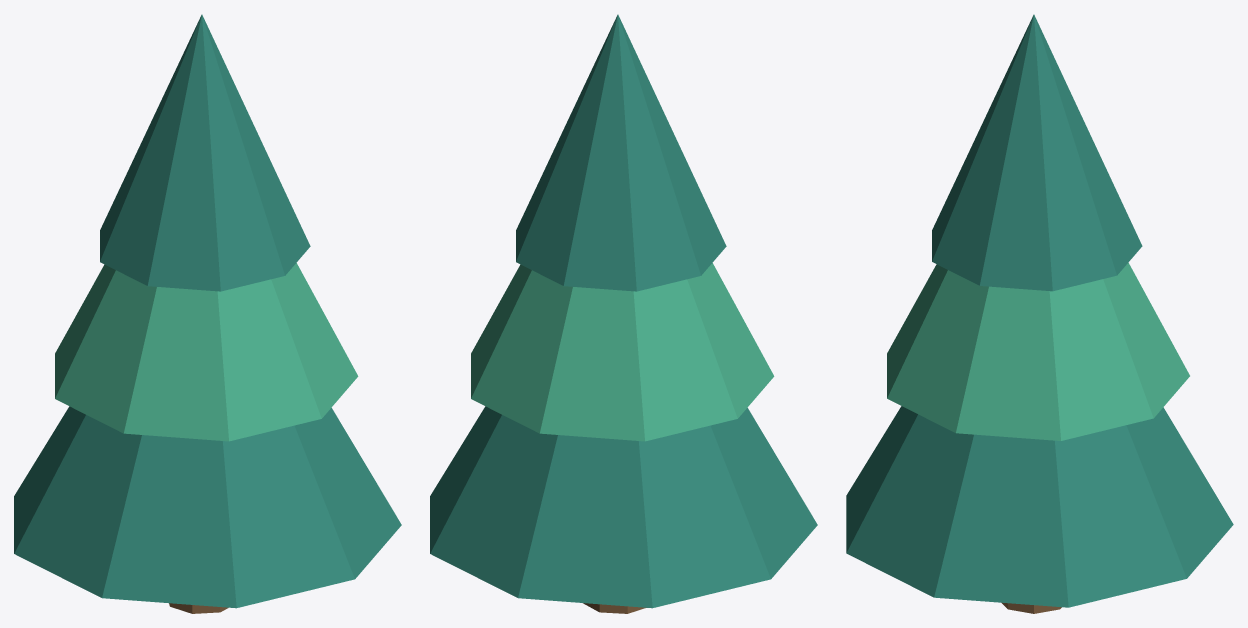
File: tree_pine_06.glb
The picture shows the model from 3 angles, left to right: view 1: azimuth 30°, elevation 25°; view 2: azimuth 150°, elevation 25°; view 3: azimuth 270°, elevation 25°; orthographic projection.
Visible parts, largest first — view 1: Pine_06_Lower.001, Pine_06_Middle.001, Pine_06_Top.001; view 2: Pine_06_Lower.001, Pine_06_Middle.001, Pine_06_Top.001; view 3: Pine_06_Lower.001, Pine_06_Middle.001, Pine_06_Top.001.
Boxes of the visible parts, bbox=[...] form: Pine_06_Lower.001: bbox=[14, 406, 401, 608]; Pine_06_Middle.001: bbox=[55, 263, 358, 441]; Pine_06_Top.001: bbox=[100, 14, 310, 291]; Pine_06_Lower.001: bbox=[430, 406, 817, 608]; Pine_06_Middle.001: bbox=[471, 263, 774, 441]; Pine_06_Top.001: bbox=[516, 14, 726, 291]; Pine_06_Lower.001: bbox=[846, 406, 1233, 607]; Pine_06_Middle.001: bbox=[887, 262, 1189, 440]; Pine_06_Top.001: bbox=[932, 14, 1142, 291].
Bounding box in the file's own units: 1.63 × 2.67 × 1.61.
